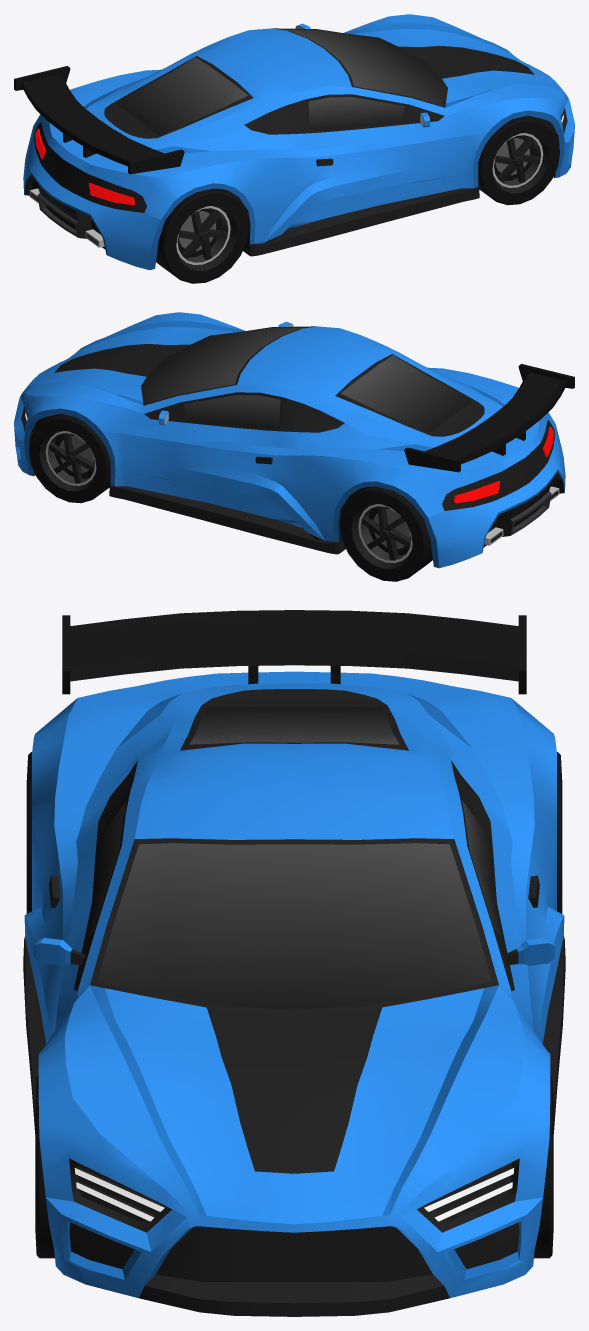
Rendered from Car_138.glb.
3 renders of one model, top to bottom at view 1: azimuth 30°, elevation 25°; view 2: azimuth 150°, elevation 25°; view 3: azimuth 270°, elevation 25°, orthographic. The views are drawn at different scales.
Visible parts, largest first — view 1: Car_138, wheel_3_Car_138_Wheel_2R, wheel_1_Car_138_Wheel_1R; view 2: Car_138, wheel_2_Car_138_Wheel_2L, wheel_0_Car_138_Wheel_1L; view 3: Car_138, wheel_0_Car_138_Wheel_1L, wheel_1_Car_138_Wheel_1R, wheel_2_Car_138_Wheel_2L, wheel_3_Car_138_Wheel_2R.
Boxes of the visible parts, left/top/right/bottom form: Car_138: left=14, top=14, right=574, bottom=270; wheel_3_Car_138_Wheel_2R: left=156, top=188, right=248, bottom=283; wheel_1_Car_138_Wheel_1R: left=478, top=115, right=559, bottom=205; Car_138: left=14, top=312, right=574, bottom=568; wheel_2_Car_138_Wheel_2L: left=340, top=486, right=432, bottom=581; wheel_0_Car_138_Wheel_1L: left=29, top=413, right=110, bottom=503; Car_138: left=23, top=610, right=565, bottom=1316; wheel_0_Car_138_Wheel_1L: left=534, top=1075, right=553, bottom=1258; wheel_1_Car_138_Wheel_1R: left=35, top=1075, right=54, bottom=1258; wheel_2_Car_138_Wheel_2L: left=557, top=752, right=562, bottom=913; wheel_3_Car_138_Wheel_2R: left=26, top=752, right=31, bottom=913.
Bounding box in the file's own units: 4.55 × 1.27 × 2.14.
2 materials, 2 textured.
